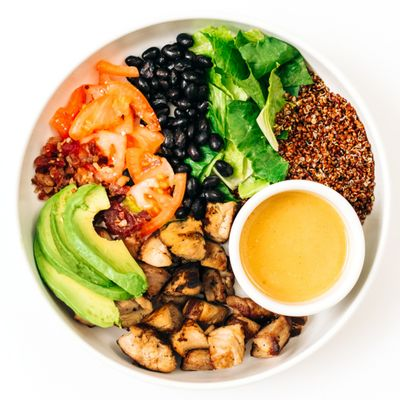sushi: (228, 179, 365, 318)
